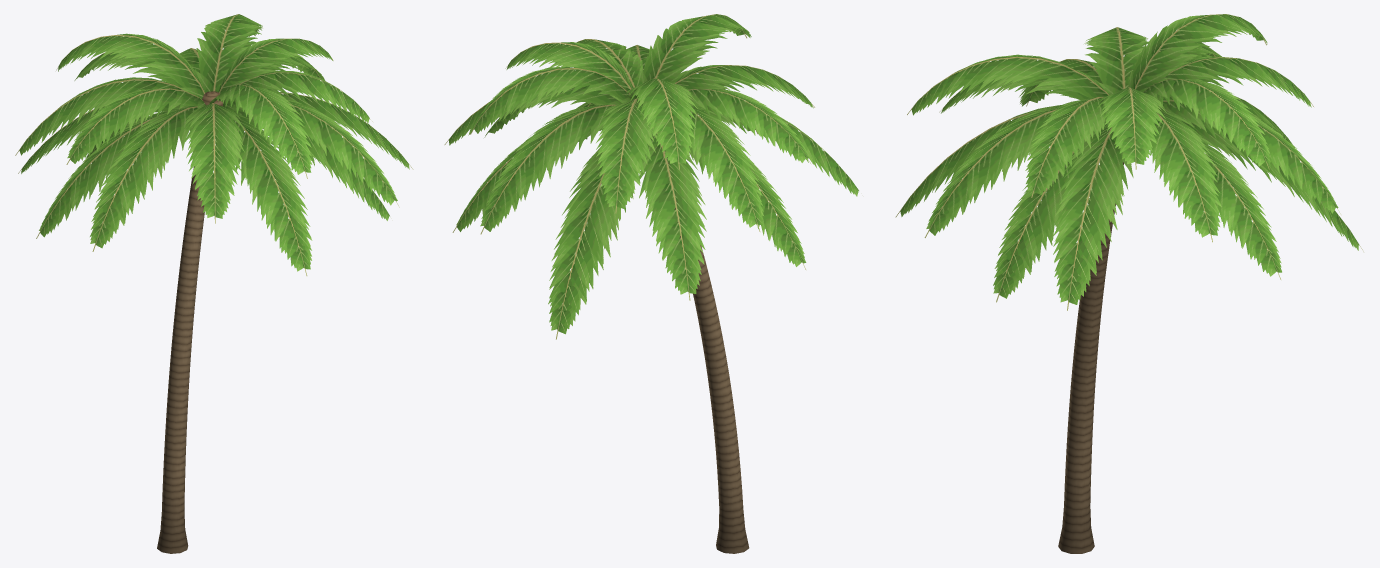
File: coconut_a.glb
3 renders of one model, left to right at view 1: azimuth 30°, elevation 25°; view 2: azimuth 150°, elevation 25°; view 3: azimuth 270°, elevation 25°, orthographic. The views are drawn at different scales.
Parts seen in each view (by area): view 1: leaves, wood; view 2: leaves, wood; view 3: leaves, wood.
Part boxes in pixels (x1=…): leaves: x1=15, y1=14, x2=413, y2=275; wood: x1=157, y1=91, x2=222, y2=553; leaves: x1=444, y1=14, x2=858, y2=339; wood: x1=668, y1=163, x2=749, y2=553; leaves: x1=895, y1=14, x2=1363, y2=310; wood: x1=1058, y1=162, x2=1123, y2=553.
Size of the model in its own units: 6.67 by 8.71 by 6.95.
2 materials, 2 textured.
